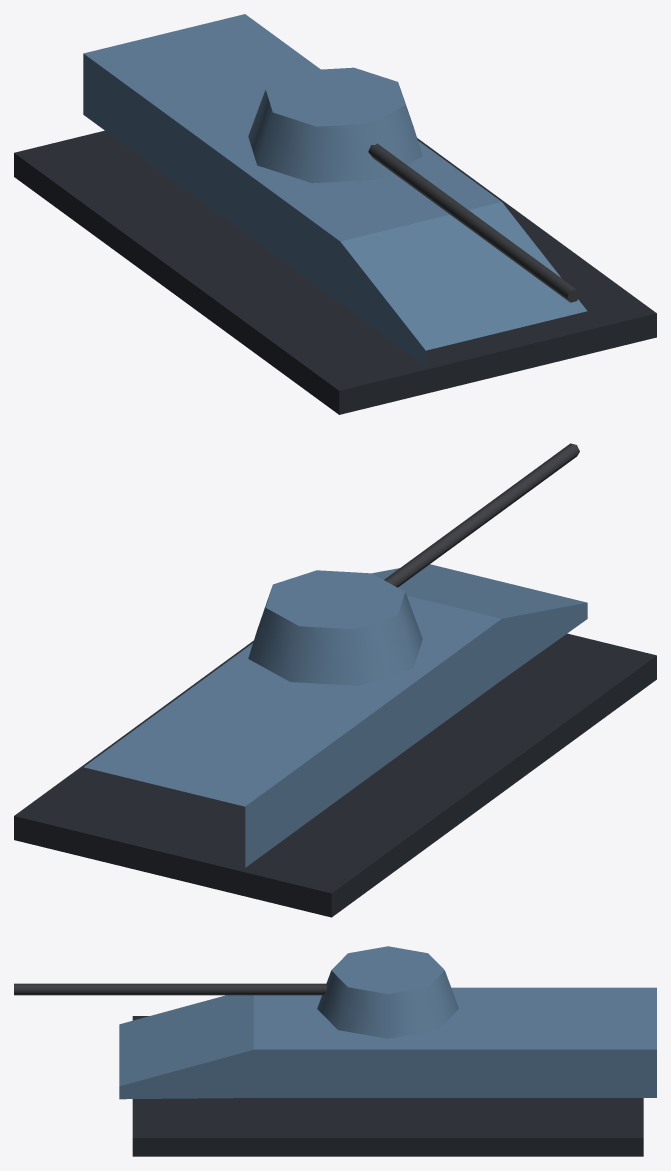
The model's file is veh_ground_tank_light_a10.glb.
3 views of the same model, one above another, from view 1: azimuth 30°, elevation 25°; view 2: azimuth 150°, elevation 25°; view 3: azimuth 270°, elevation 25° (orthographic). The views are drawn at different scales.
Visible parts, largest first — view 1: body, turret; view 2: body, turret; view 3: body, turret.
Boxes of the visible parts, bbox=[...] form: body: bbox=[14, 14, 656, 414]; turret: bbox=[248, 67, 579, 302]; body: bbox=[14, 564, 656, 917]; turret: bbox=[248, 443, 579, 685]; body: bbox=[119, 987, 656, 1156]; turret: bbox=[14, 946, 458, 1038].
Size of what is drawn, in the model's own units: 3.45 by 1.71 by 7.7.
